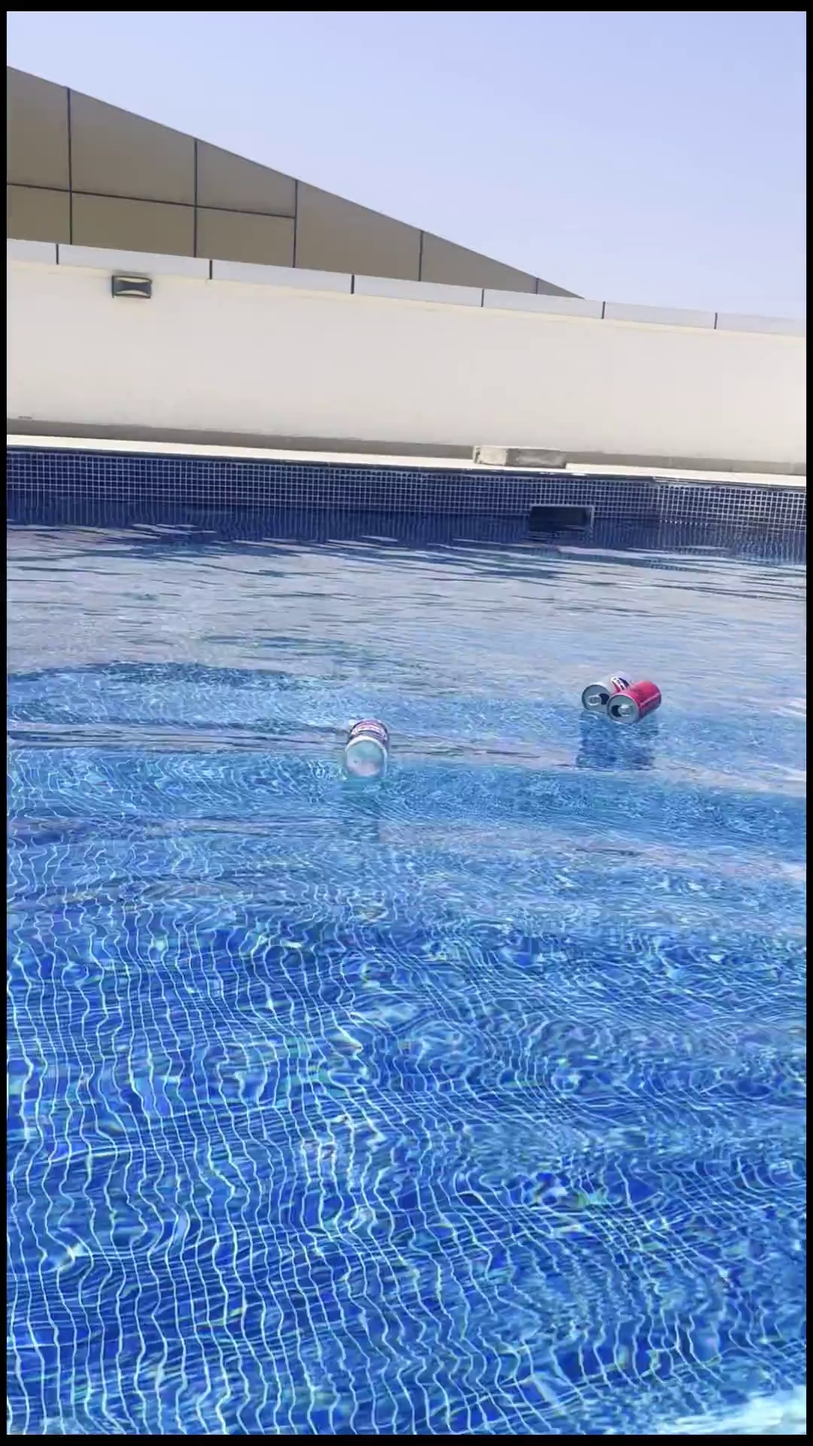debris: (340, 703, 386, 786), (608, 665, 659, 739), (577, 651, 630, 718)
